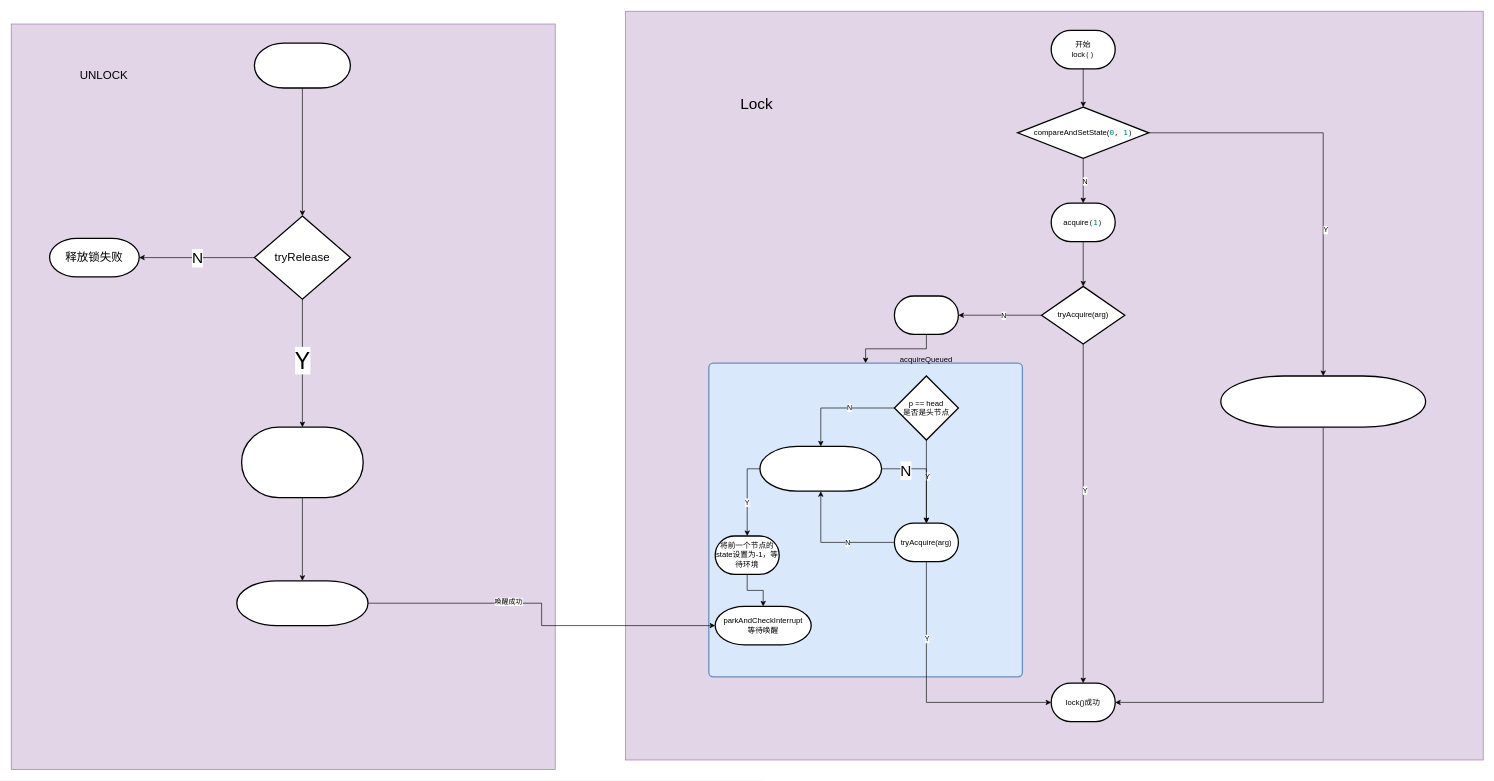
The diagram is 1494 pixels wide and 781 high, and some of its shapes have lost their labels. Here are the shapes that lost their labels. From the top down, the box of each, then its label:
(253, 42, 351, 88): release( 1 )
(893, 295, 959, 335): addWaiter
(1220, 375, 1426, 428): setExclusiveOwnerThread (Thread.currentThread()
(241, 426, 364, 498): unparkSuccessor
(759, 445, 882, 492): shouldParkAfterFailedAcquire
(236, 580, 368, 626): LockSupport.unpark
